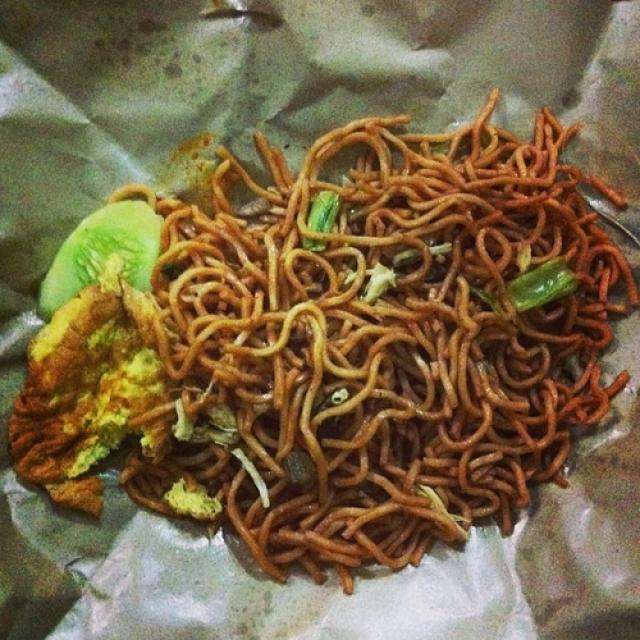面条主食: (33, 32, 620, 596)
